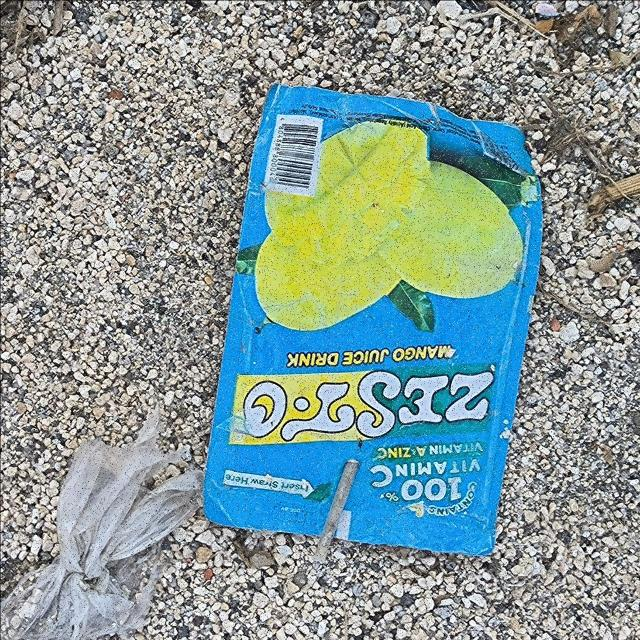plastic_waste: (199, 78, 548, 558)
